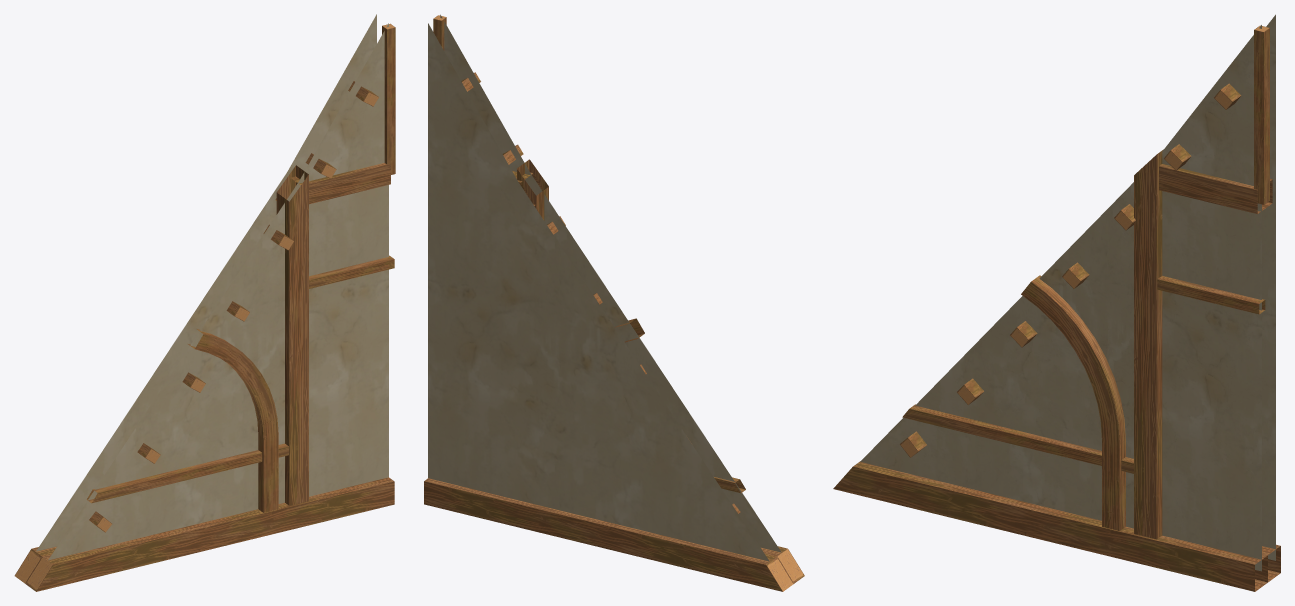
Rendered from Roof_Front_Brick8_Half_L.gltf.
3 renders of one model, left to right at view 1: azimuth 30°, elevation 25°; view 2: azimuth 150°, elevation 25°; view 3: azimuth 330°, elevation 25°, orthographic. The views are drawn at different scales.
Parts seen in each view (by area): view 1: Roof_Front_Brick8_Half_L; view 2: Roof_Front_Brick8_Half_L; view 3: Roof_Front_Brick8_Half_L.
Part boxes in pixels (x1,y1,x2,y2): Roof_Front_Brick8_Half_L: (14,14,395,591); Roof_Front_Brick8_Half_L: (424,14,804,591); Roof_Front_Brick8_Half_L: (833,14,1280,591).
Bounding box in the file's own units: 4.33 × 5.45 × 0.4896.
Materials: 2 (2 with a texture image).
